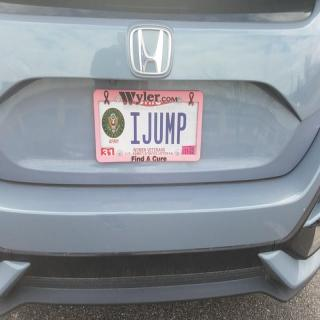license: (94, 90, 204, 163)
